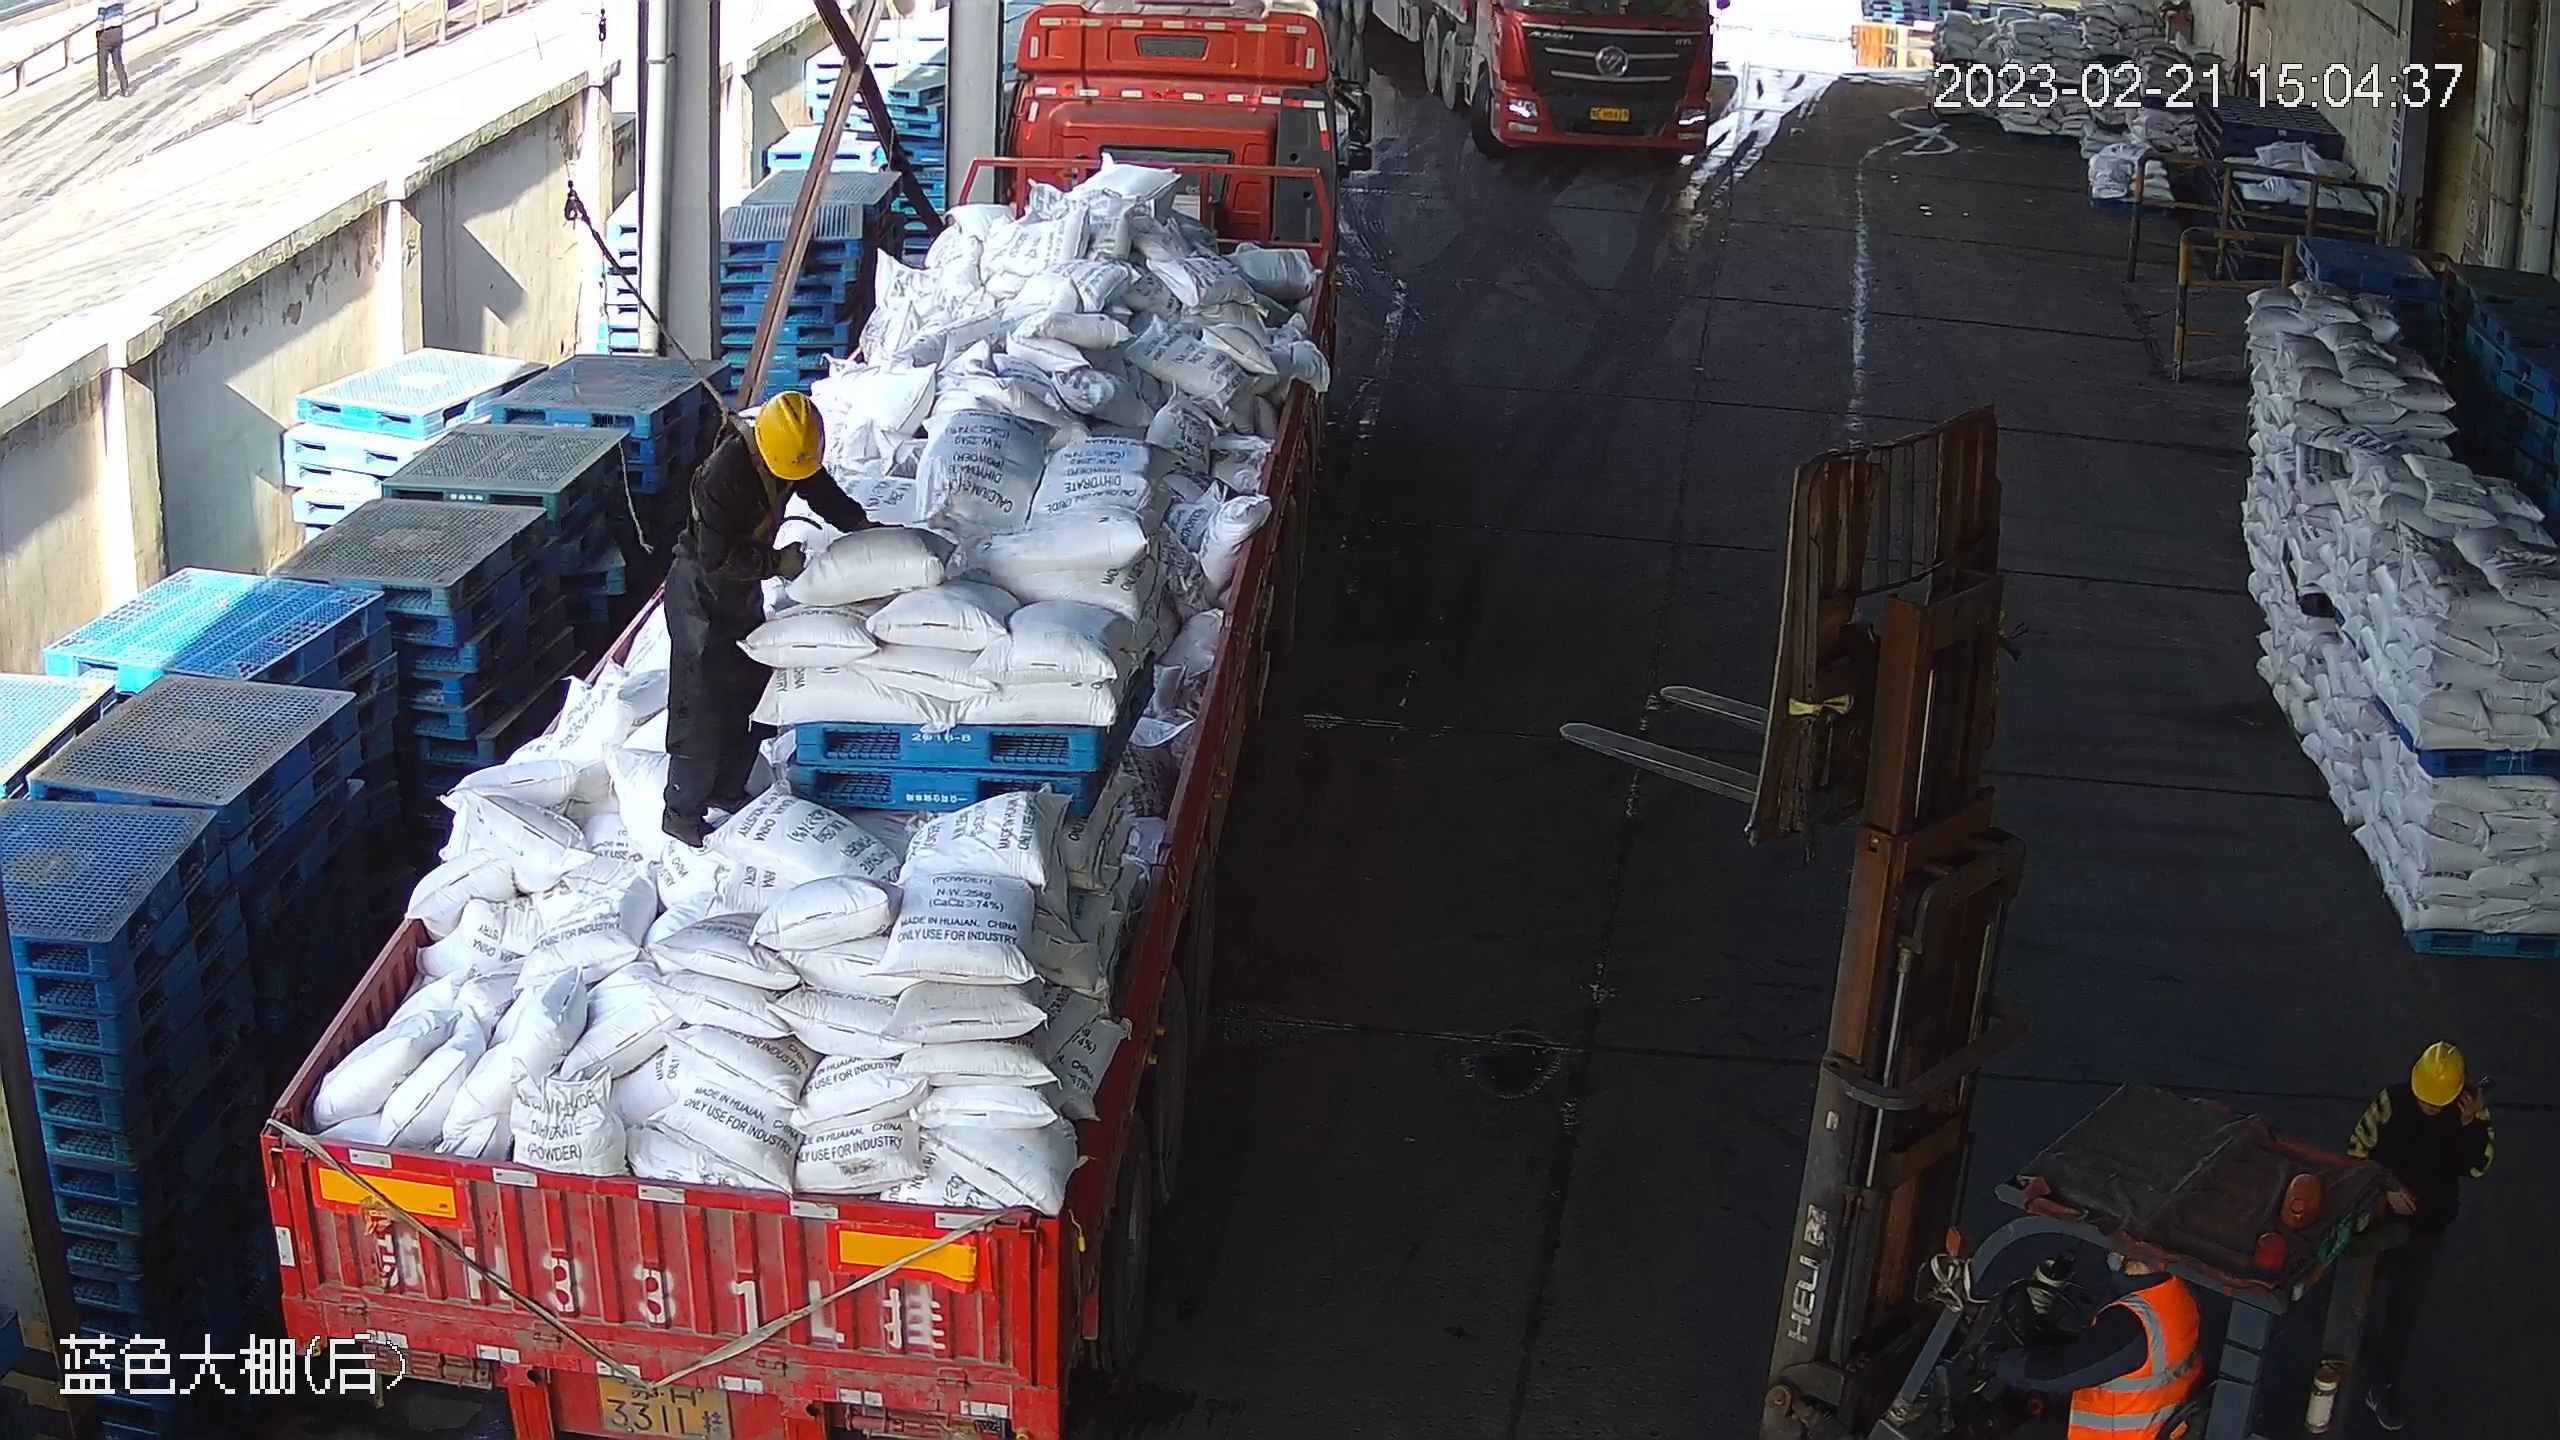belt: (712, 398, 798, 547)
head: (671, 388, 857, 569), (2357, 1039, 2491, 1178)
helmet: (751, 393, 824, 484), (2411, 1040, 2465, 1107)
people: (661, 388, 908, 847), (2339, 1038, 2502, 1440)
truck: (251, 1, 1376, 1428), (1374, 1, 1718, 156)
